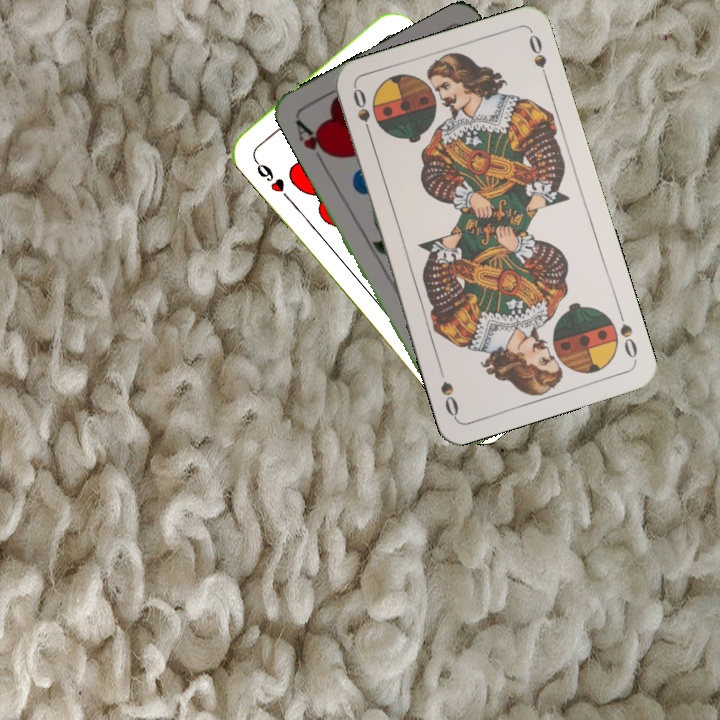H9: (249, 153, 292, 203)
HA: (291, 115, 334, 169)
SO: (349, 84, 375, 142), (614, 306, 640, 363)
